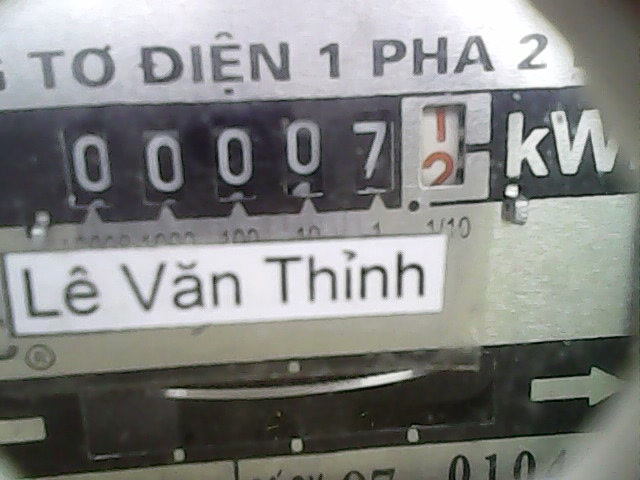phy_plate: (50, 88, 498, 214)
